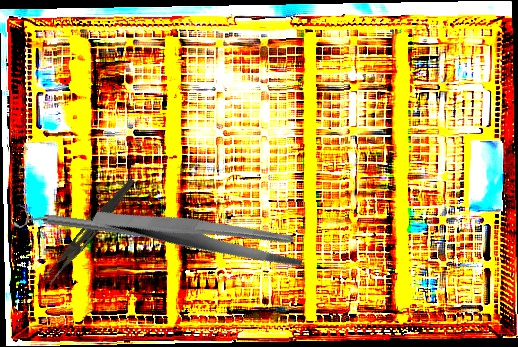Dressing Forceps: (90, 156, 311, 313), (42, 173, 137, 289)
Fixation Ring: (12, 201, 177, 251)
